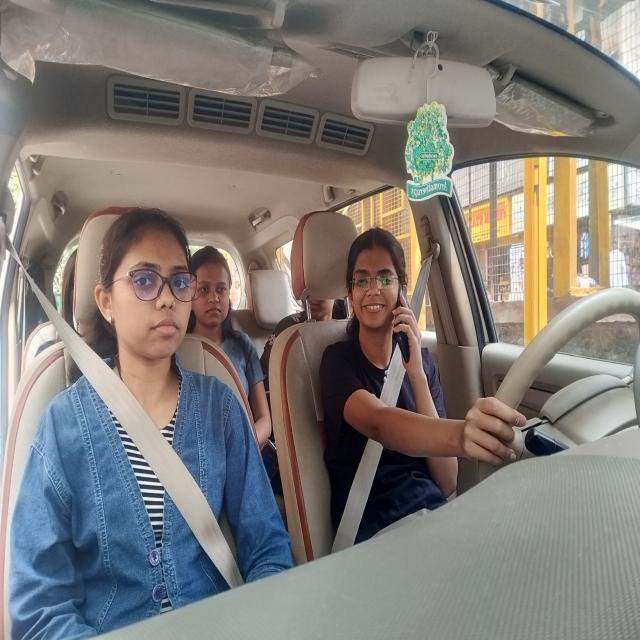mobile: (396, 283, 424, 372)
person: (107, 209, 200, 371), (349, 233, 413, 333), (202, 250, 236, 330), (292, 290, 342, 320)
